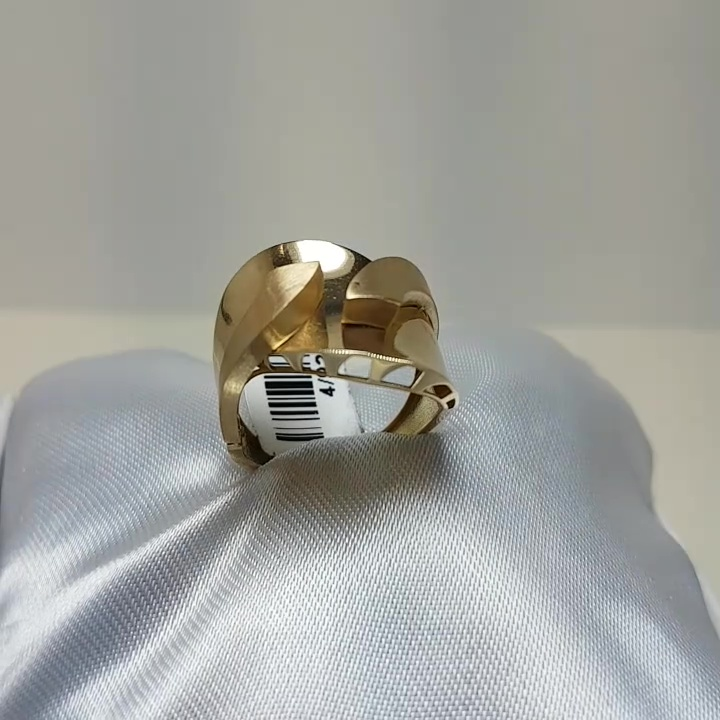Ring 4: (180, 199, 465, 506)
